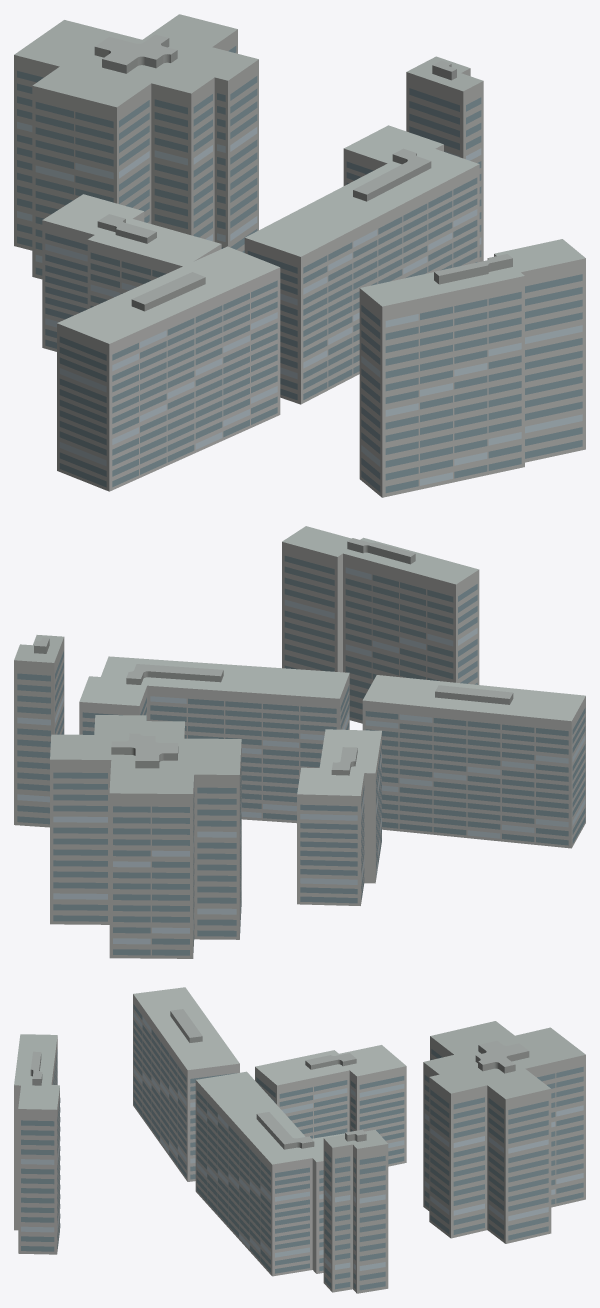
File: apt-a11084601.glb
3 views of the same model, one above another, from view 1: azimuth 30°, elevation 25°; view 2: azimuth 150°, elevation 25°; view 3: azimuth 270°, elevation 25° (orthographic). The views are drawn at different scales.
Visible parts, largest first — view 1: apt-a11084601; view 2: apt-a11084601; view 3: apt-a11084601.
Boxes of the visible parts, left/top/right/bottom form: apt-a11084601: left=14, top=14, right=585, bottom=497; apt-a11084601: left=14, top=526, right=585, bottom=958; apt-a11084601: left=14, top=987, right=585, bottom=1293.
Bounding box in the file's own units: 132 × 47.81 × 164.
